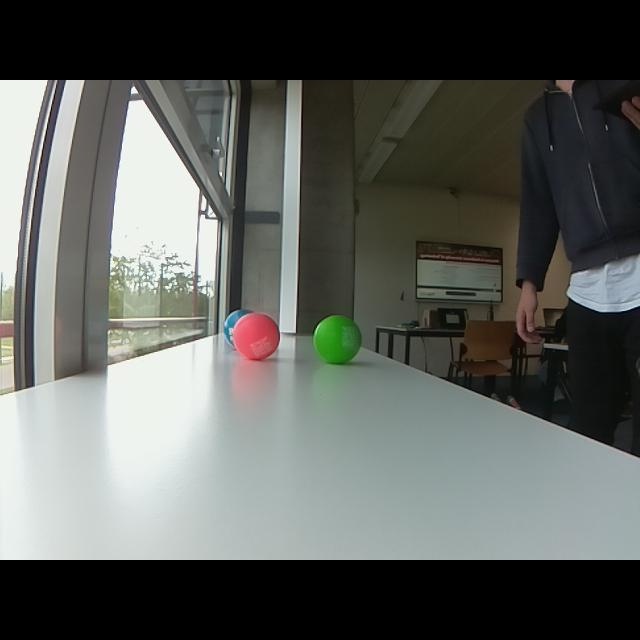ball: (310, 312, 365, 365), (232, 310, 282, 362)
